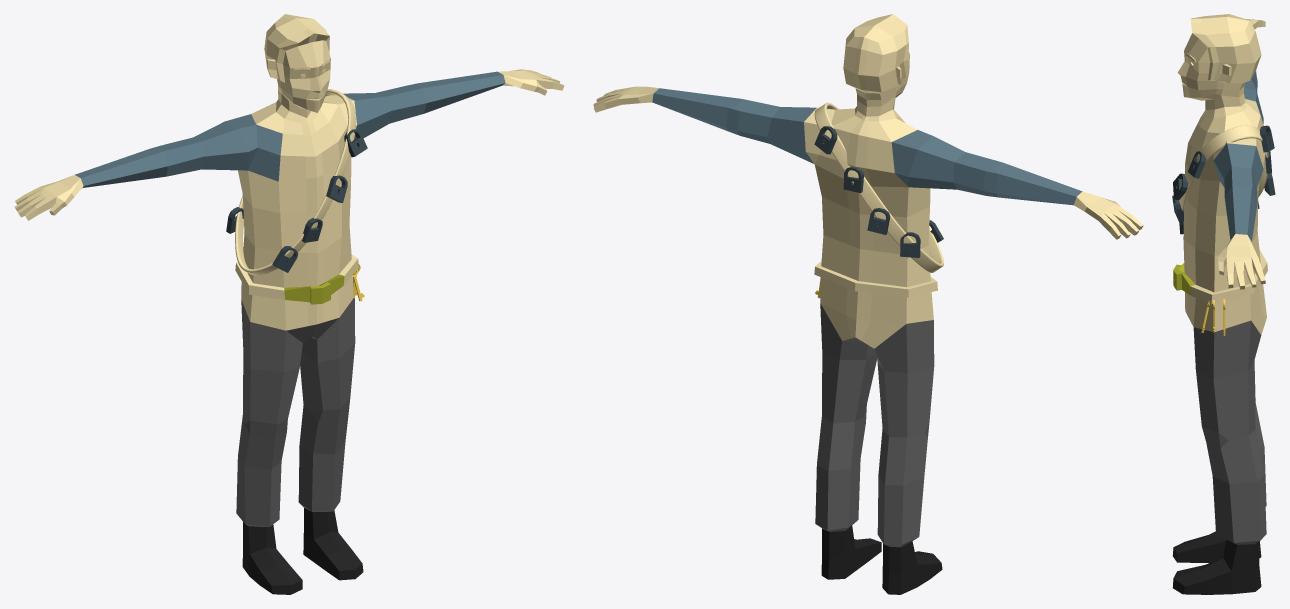
The model's file is Anahtarcı.fbx.
3 views of the same model, side by side, from view 1: azimuth 30°, elevation 25°; view 2: azimuth 150°, elevation 25°; view 3: azimuth 270°, elevation 25° (orthographic).
Parts seen in each view (by area): view 1: Mecnun; view 2: Mecnun; view 3: Mecnun.
Part boxes in pixels (x1=…): Mecnun: x1=14, y1=14, x2=564, y2=594; Mecnun: x1=593, y1=14, x2=1143, y2=594; Mecnun: x1=1172, y1=14, x2=1275, y2=594.
Size of the model in its own units: 188 by 183 by 30.74.
1 material, 1 textured.
